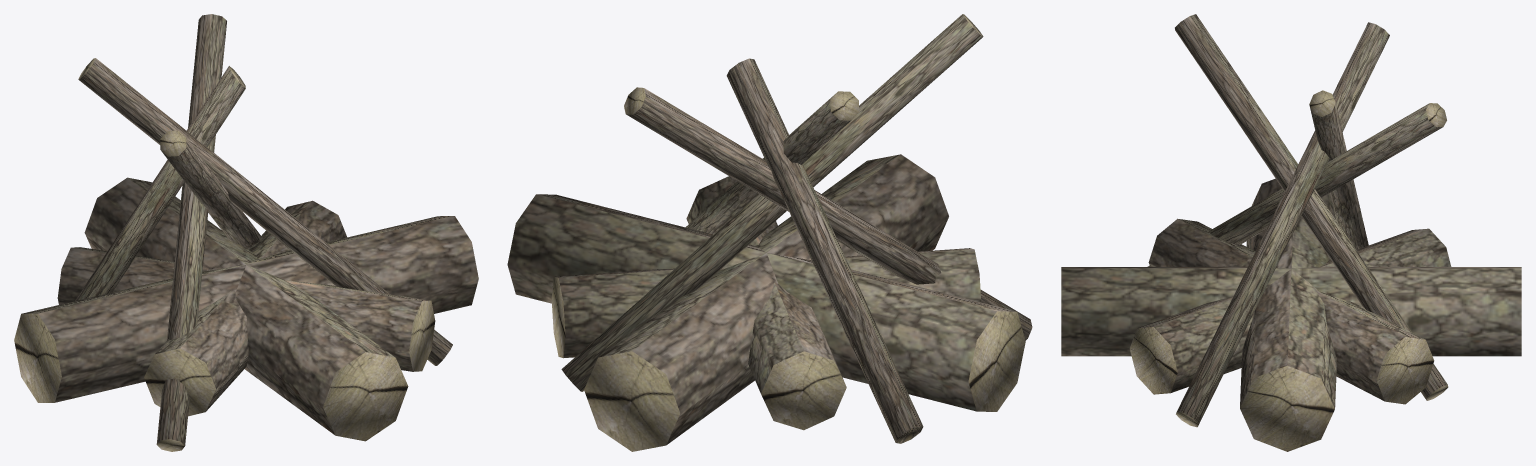
File: Fogueira.fbx
3 views of the same model, side by side, from view 1: azimuth 30°, elevation 25°; view 2: azimuth 150°, elevation 25°; view 3: azimuth 270°, elevation 25° (orthographic). The views are drawn at different scales.
Visible parts, largest first — view 1: Fogueira; view 2: Fogueira; view 3: Fogueira.
Part boxes in pixels (x1,y1,x2,y2): Fogueira: (14,14,478,451); Fogueira: (507,14,1032,451); Fogueira: (1061,14,1521,451).
Size of the model in its own units: 218 by 217 by 154.
